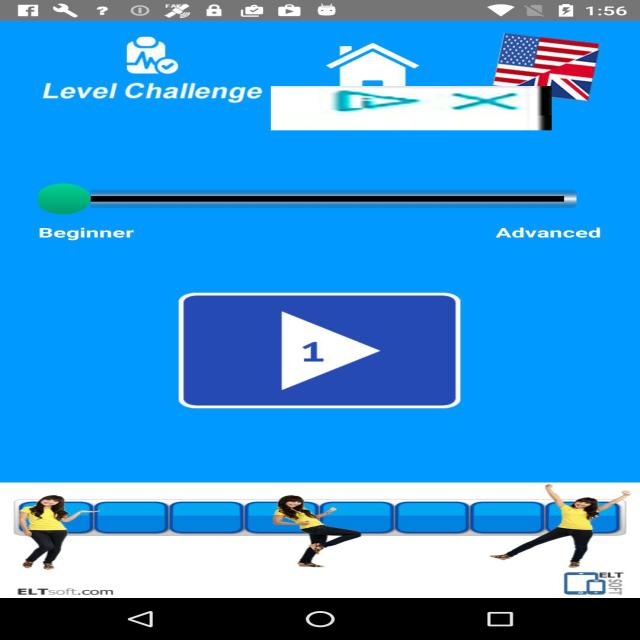sneaking: (271, 86, 552, 130)
